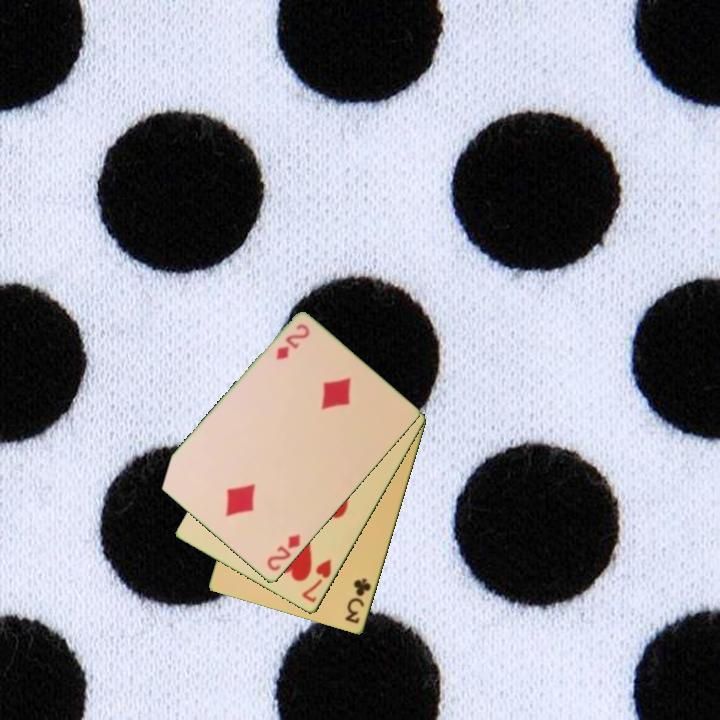2d: (272, 320, 312, 363), (264, 531, 303, 574)
3c: (342, 575, 374, 627)
7h: (298, 555, 335, 606)
